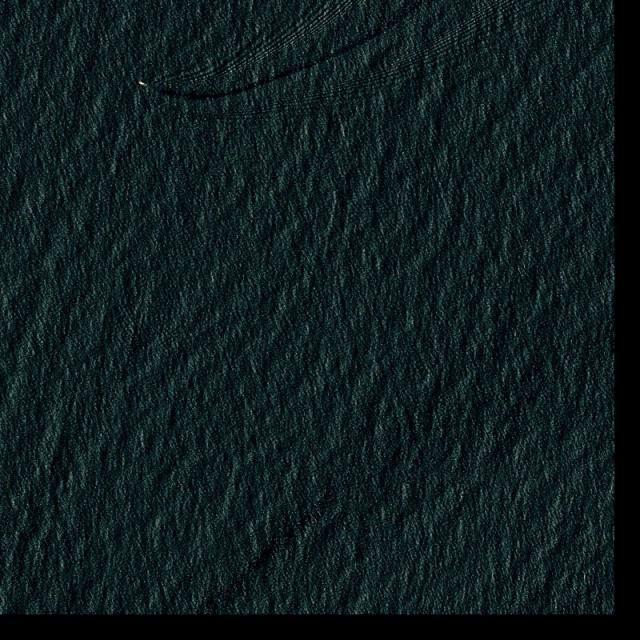ship: (138, 81, 149, 87)
